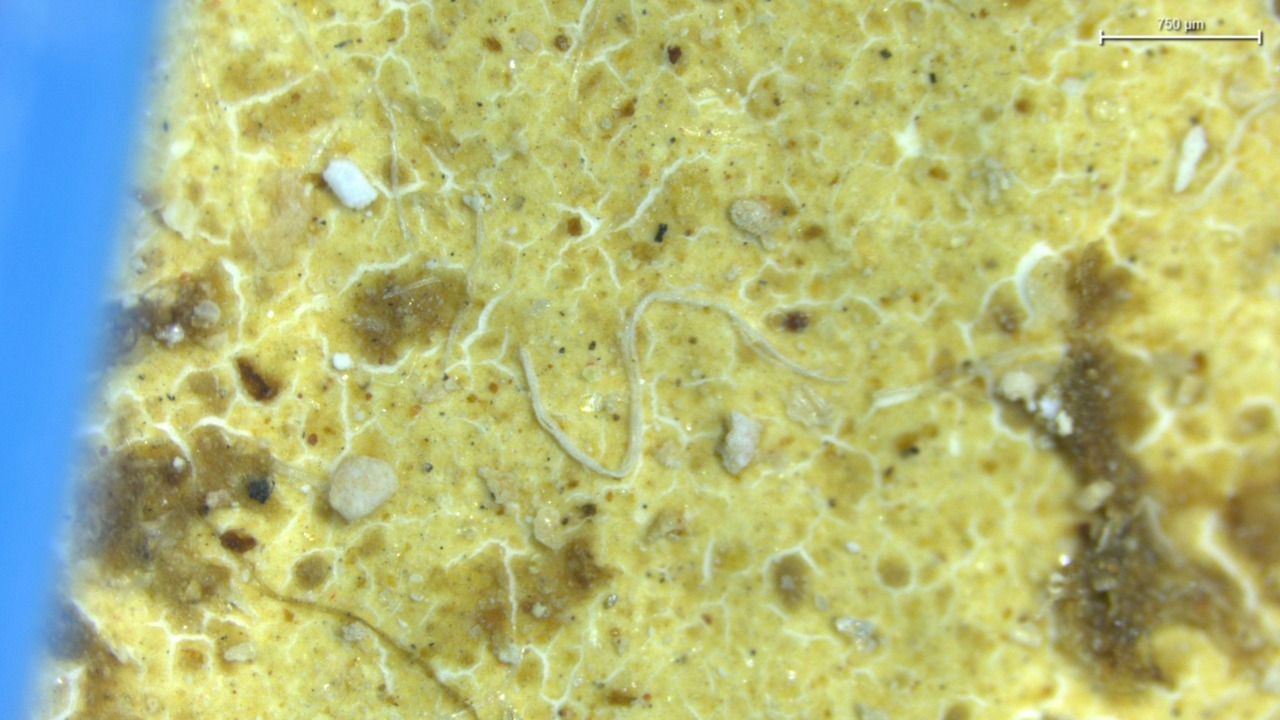microplastic_fragment: (329, 456, 398, 521), (718, 410, 762, 475), (323, 159, 377, 209), (729, 199, 780, 236)
